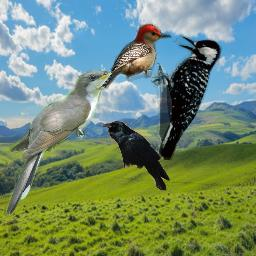Crow: (101, 121, 170, 191)
Cuckoo: (6, 70, 117, 214)
Woodpecker: (150, 34, 224, 160), (96, 23, 173, 90)
